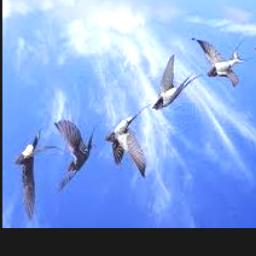Swallow: (14, 128, 57, 219), (105, 102, 153, 178), (54, 119, 97, 192), (192, 36, 250, 88), (152, 57, 203, 110)
